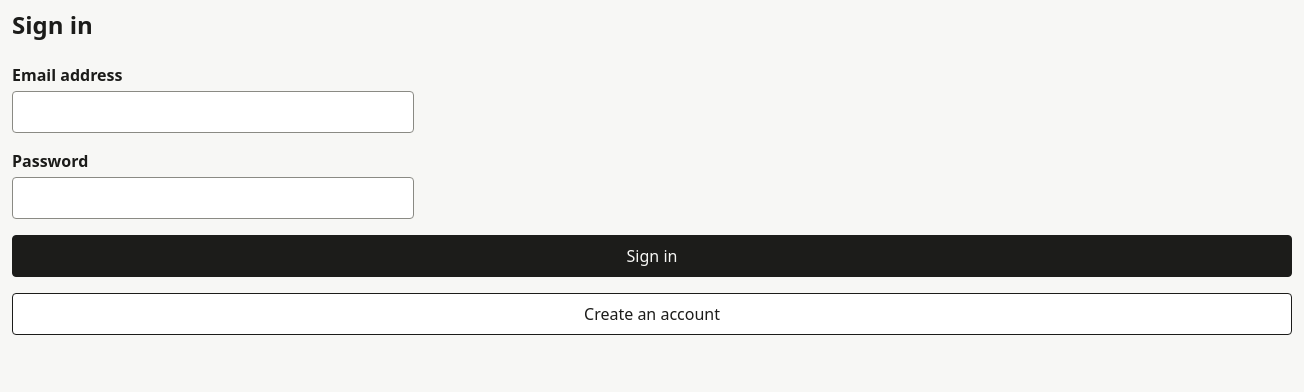
Test case: Cognito sign-in screens › clears the password field after a failed sign-in and shows bounded wording
The width and height of the screenshot is (1304, 392).
Type "pilot.owner@example.test" into the field labelled "Email address". click: [213, 112]
box: [12,91,414,133]
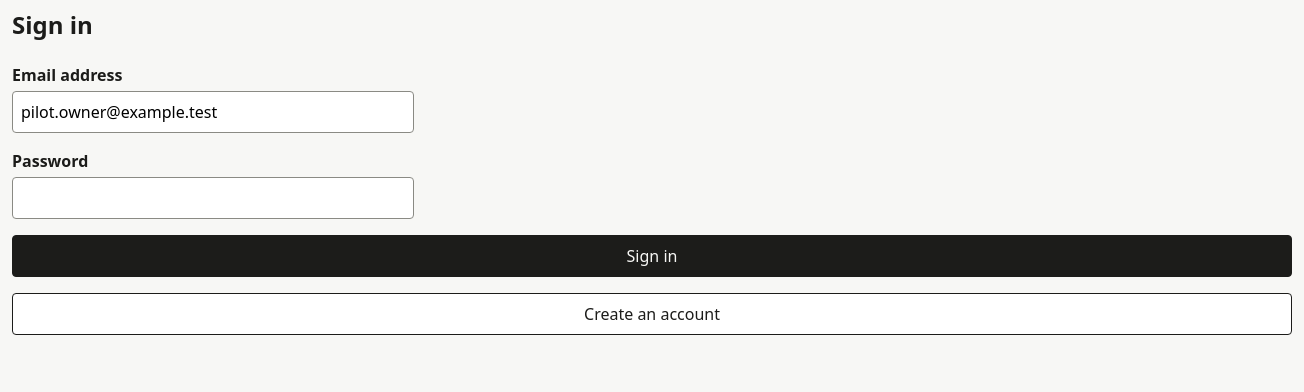
Type "Passpass-1111" into the password field labelled "Password". click: [213, 198]
box: [12,177,414,219]
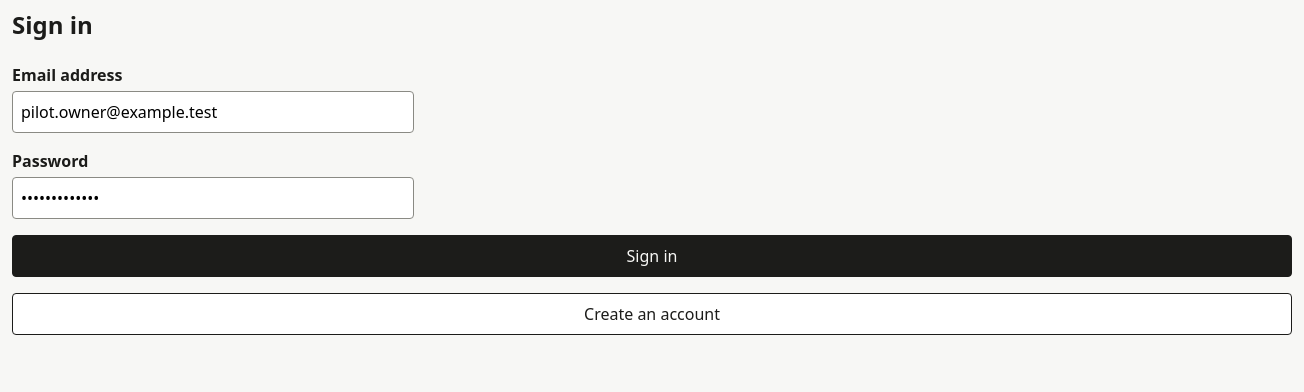
Click the button "Sign in". click: [652, 256]
box: [12,235,1292,277]
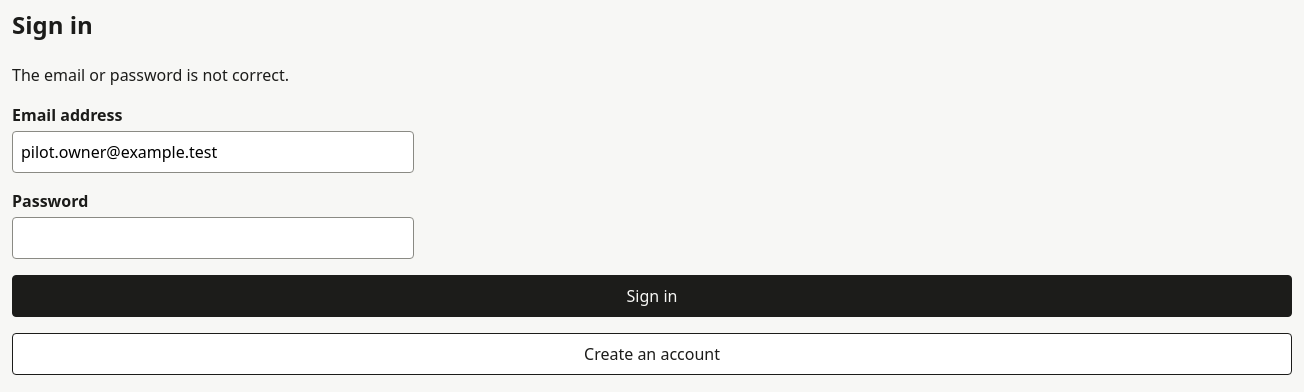
Expected: the message with test id "cognito-message" reads "The email or password is not correct.", [12,64,289,86]
Expected: the password field labelled "Password" is empty, [12,217,414,259]
